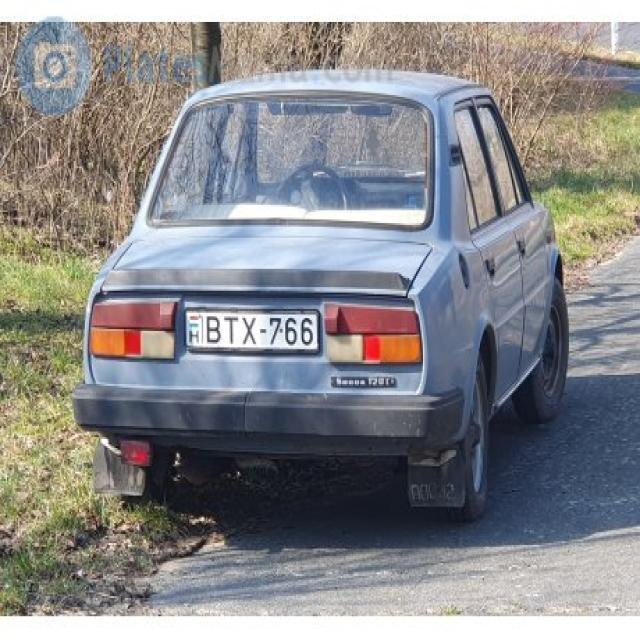licence: (181, 300, 321, 366)
